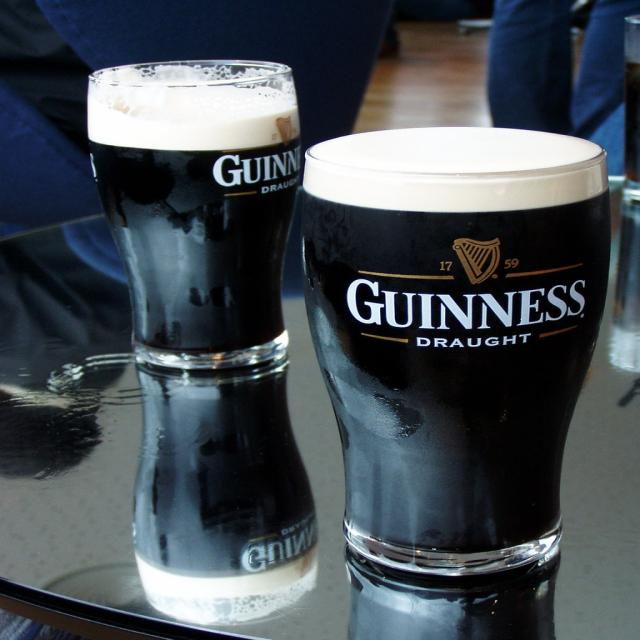guiness: (344, 237, 590, 334), (210, 114, 304, 191)
